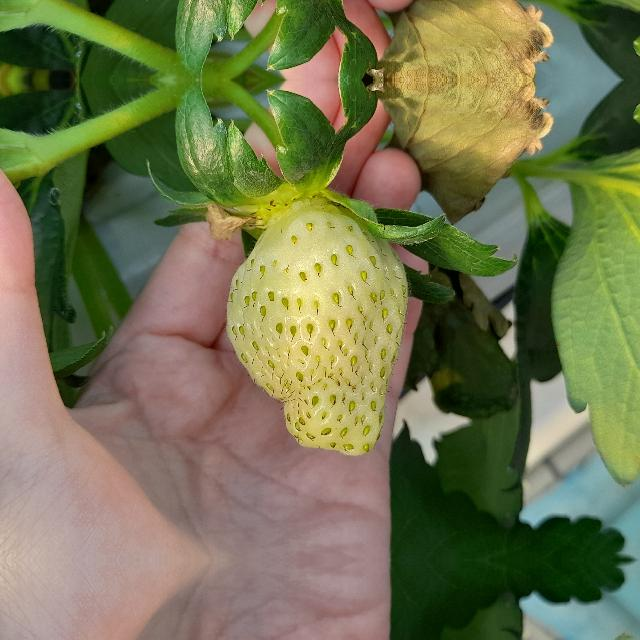Health_25: (225, 202, 412, 456)
